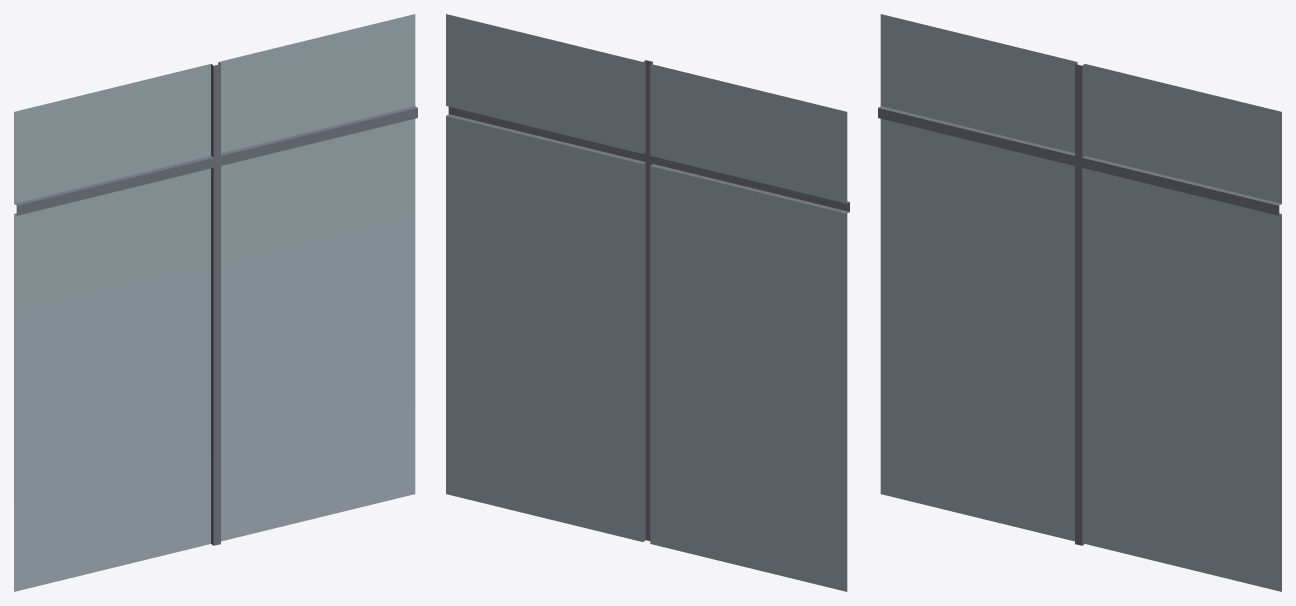
File: Ground floor windows.fbx
3 renders of one model, left to right at view 1: azimuth 30°, elevation 25°; view 2: azimuth 150°, elevation 25°; view 3: azimuth 330°, elevation 25°, orthographic.
Visible parts, largest first — view 1: Cube.199; view 2: Cube.199; view 3: Cube.199.
Boxes of the visible parts, left/top/right/bottom form: Cube.199: left=14, top=14, right=417, bottom=591; Cube.199: left=446, top=14, right=849, bottom=591; Cube.199: left=878, top=14, right=1281, bottom=591.
Bounding box in the file's own units: 512 × 585 × 5.93.
